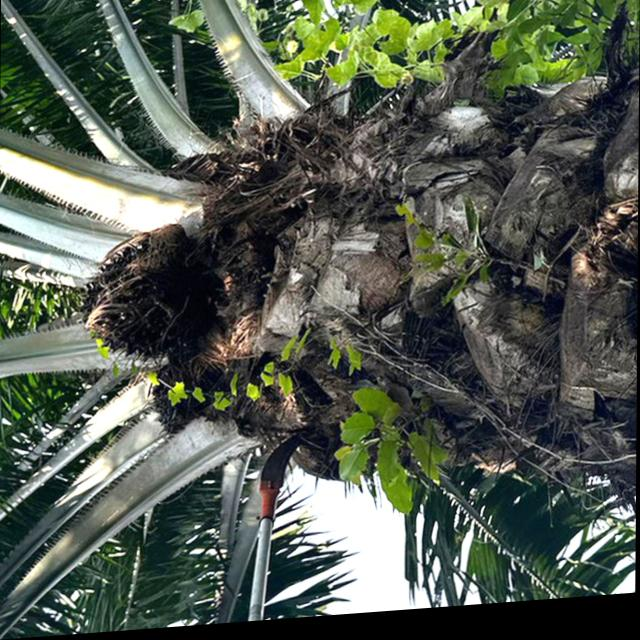unripe: (63, 217, 224, 385)
